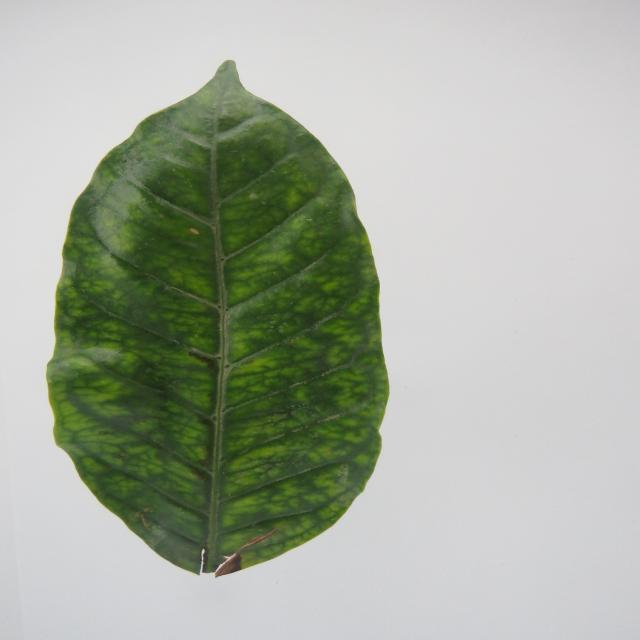DeficienciaNutricional-Manganeso: (48, 61, 388, 575)
